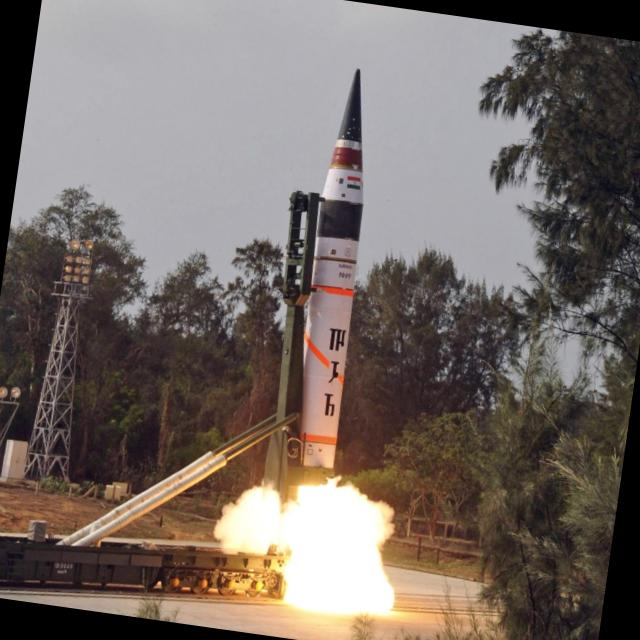rocket: (278, 64, 393, 512)
